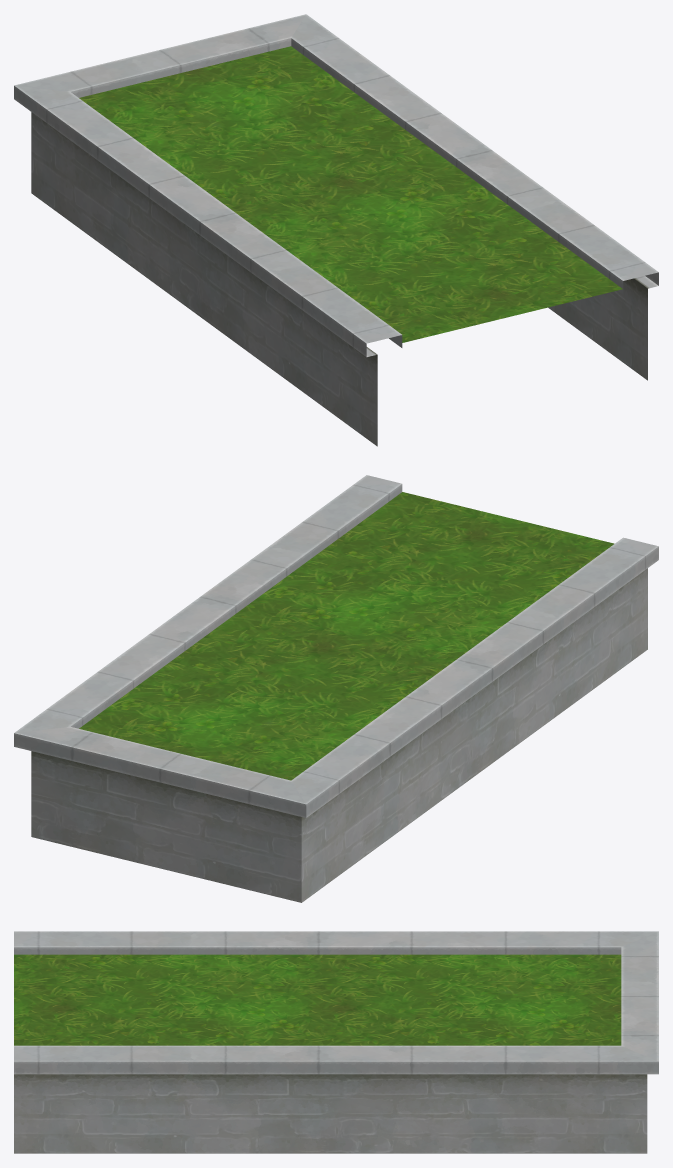
The model's file is flowerBed_high_01.fbx.
3 renders of one model, top to bottom at view 1: azimuth 30°, elevation 25°; view 2: azimuth 150°, elevation 25°; view 3: azimuth 270°, elevation 25°, orthographic. The views are drawn at different scales.
Parts seen in each view (by area): view 1: flowerBed_high_01; view 2: flowerBed_high_01; view 3: flowerBed_high_01.
Part boxes in pixels (bbox=[...]): flowerBed_high_01: bbox=[14, 14, 658, 446]; flowerBed_high_01: bbox=[14, 475, 658, 902]; flowerBed_high_01: bbox=[14, 931, 658, 1153].
Size of the model in its own units: 165 by 57.19 by 345.
